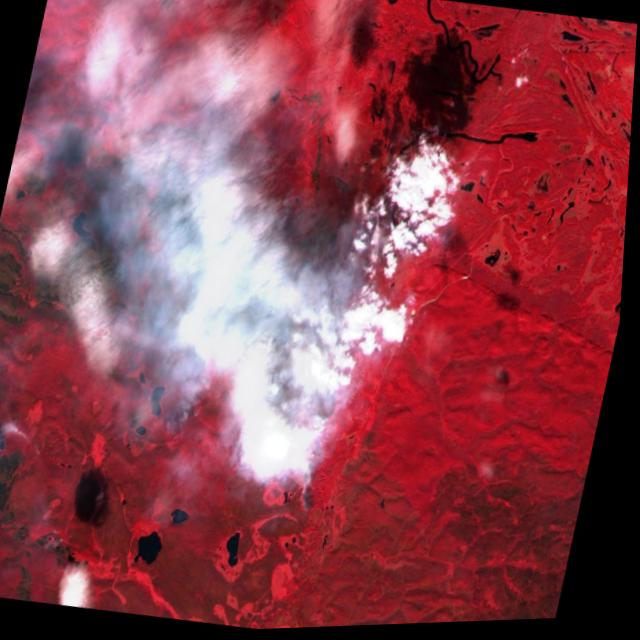fire: (140, 221, 384, 524)
